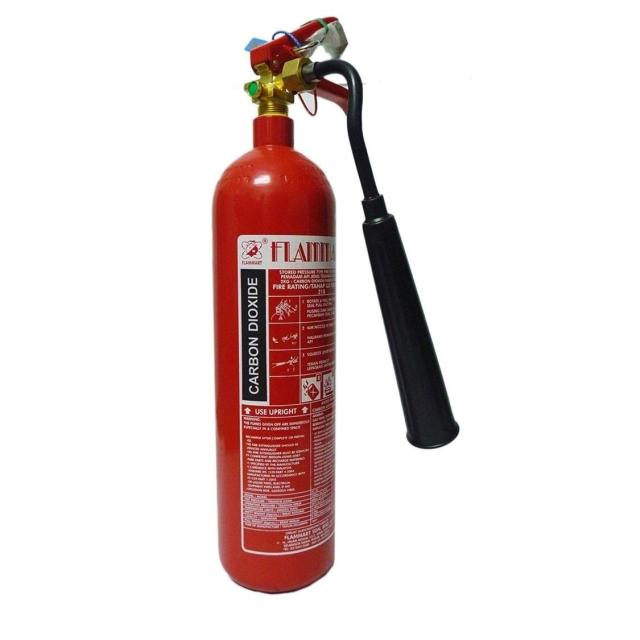fire_extinguisher: (202, 9, 466, 601)
